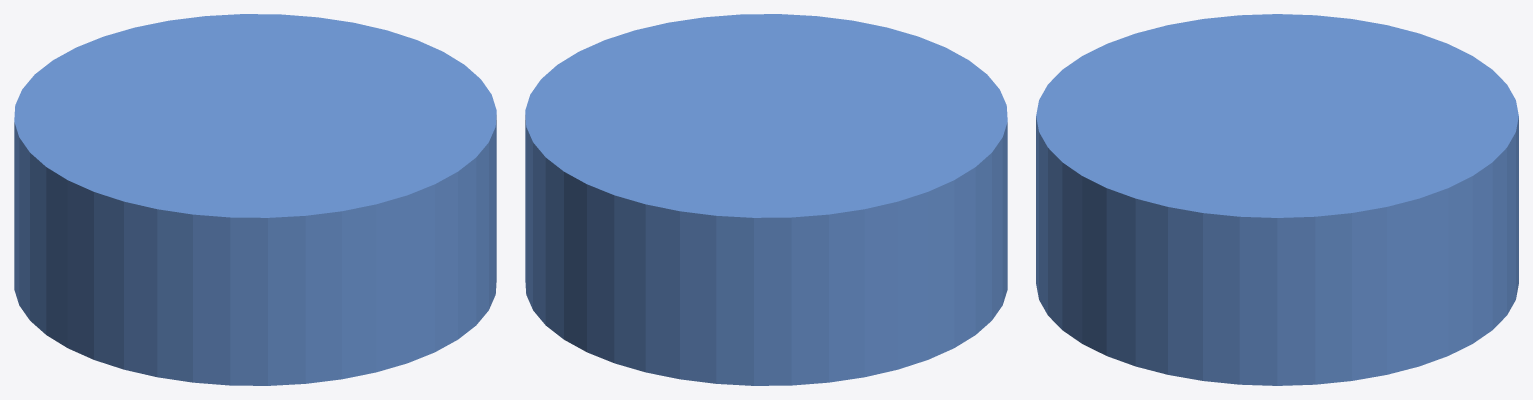
File: rec_bottle_cap_0017.glb
The picture shows the model from 3 angles, left to right: view 1: azimuth 30°, elevation 25°; view 2: azimuth 150°, elevation 25°; view 3: azimuth 270°, elevation 25°; orthographic projection.
Parts seen in each view (by area): view 1: z-up-to-y-up; view 2: z-up-to-y-up; view 3: z-up-to-y-up.
Part boxes in pixels (bbox=[...]): z-up-to-y-up: bbox=[14, 14, 496, 385]; z-up-to-y-up: bbox=[525, 14, 1007, 385]; z-up-to-y-up: bbox=[1036, 14, 1518, 385].
Size of the model in its own units: 0.0277 by 0.0106 by 0.0277.
